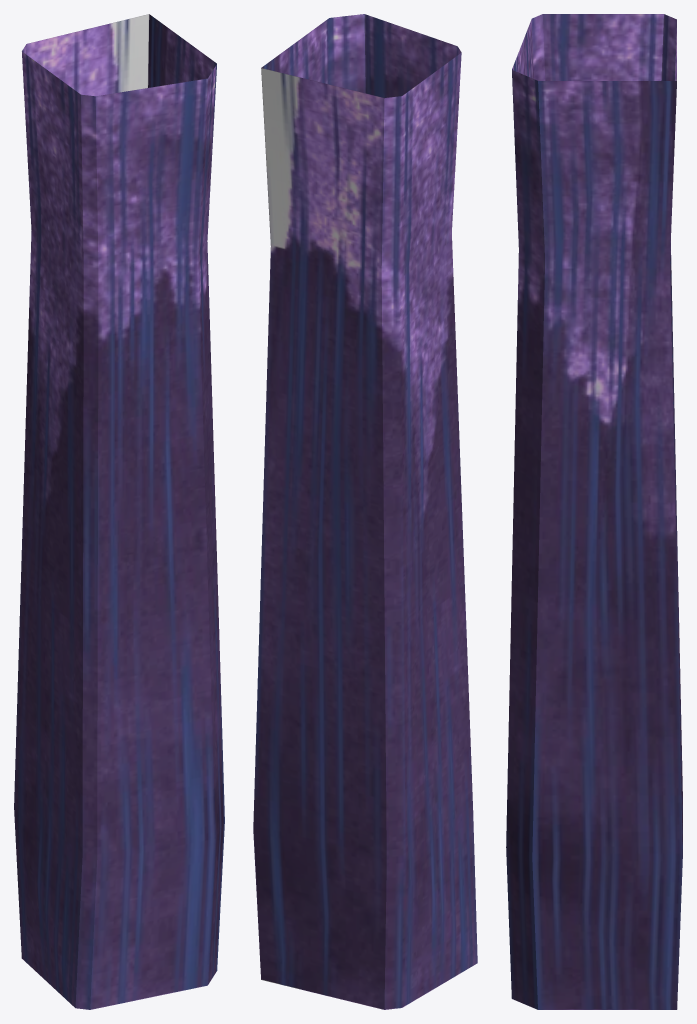
Rendered from temple-column-art.glb.
The picture shows the model from 3 angles, left to right: view 1: azimuth 30°, elevation 25°; view 2: azimuth 150°, elevation 25°; view 3: azimuth 270°, elevation 25°; orthographic projection. The views are drawn at different scales.
Visible parts, largest first — view 1: TempleColumn_Art; view 2: TempleColumn_Art; view 3: TempleColumn_Art.
Boxes of the visible parts, box(x1,y1,x2,y2) form: TempleColumn_Art: box(14, 14, 224, 1009); TempleColumn_Art: box(253, 14, 477, 1009); TempleColumn_Art: box(506, 14, 682, 1009).
Size of the model in its own units: 1.21 by 7 by 1.21.
Materials: 1 (1 with a texture image).
